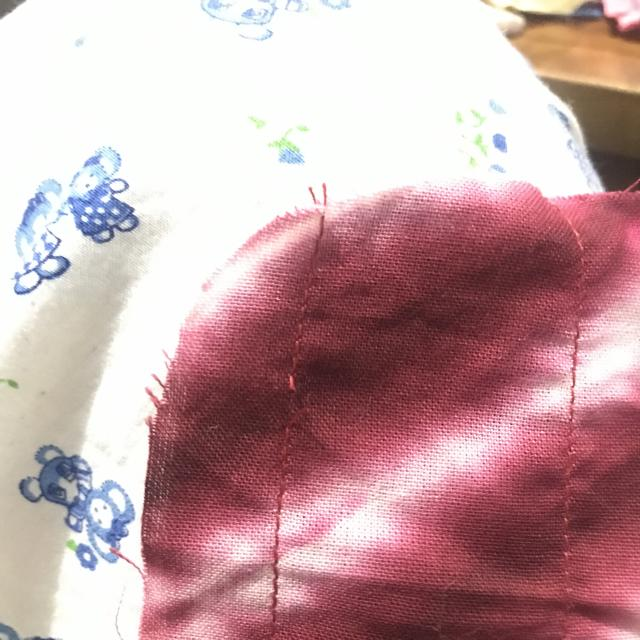broken: (264, 363, 332, 442)
good: (268, 489, 304, 596)
